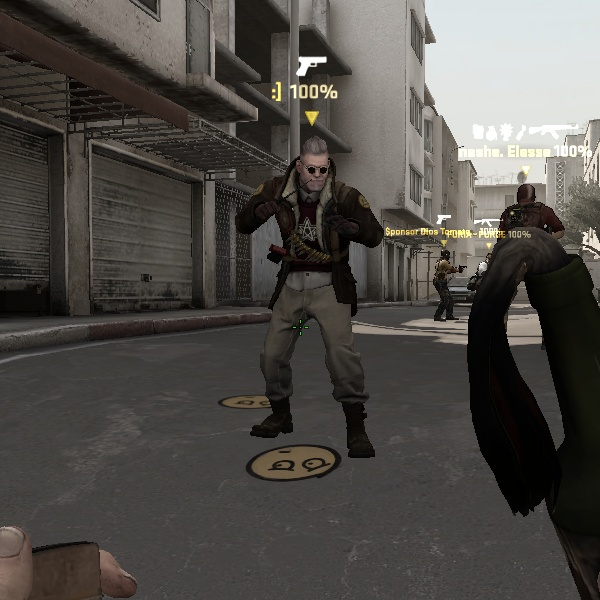t_body: (226, 129, 394, 460), (492, 179, 570, 244), (426, 244, 467, 323)
t_head: (284, 129, 348, 203), (511, 180, 547, 211), (438, 246, 457, 266)
